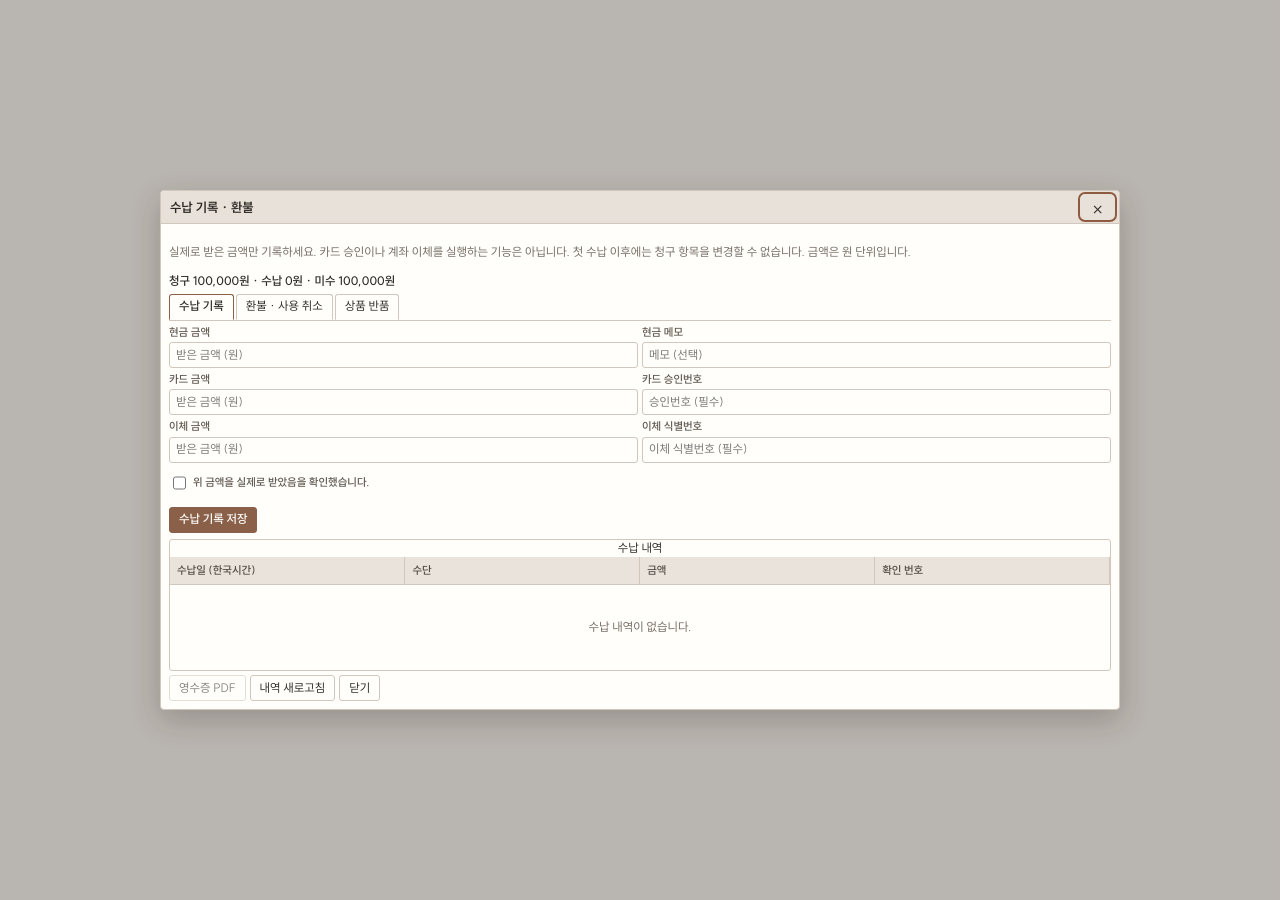
Test case: PaymentDialog 수납·환불·반품 › 복합 수납을 한 번의 요청으로 기록하고 잔액·내역을 갱신한다
Expected: the text with test id "payment-balance" reads "청구 100,000원 · 수납 0원 · 미수 100,000원", [169,273,395,288]
Type "70000" into the field labelled "카드 금액". click: coordinates (404, 402)
box: [169,389,638,415]
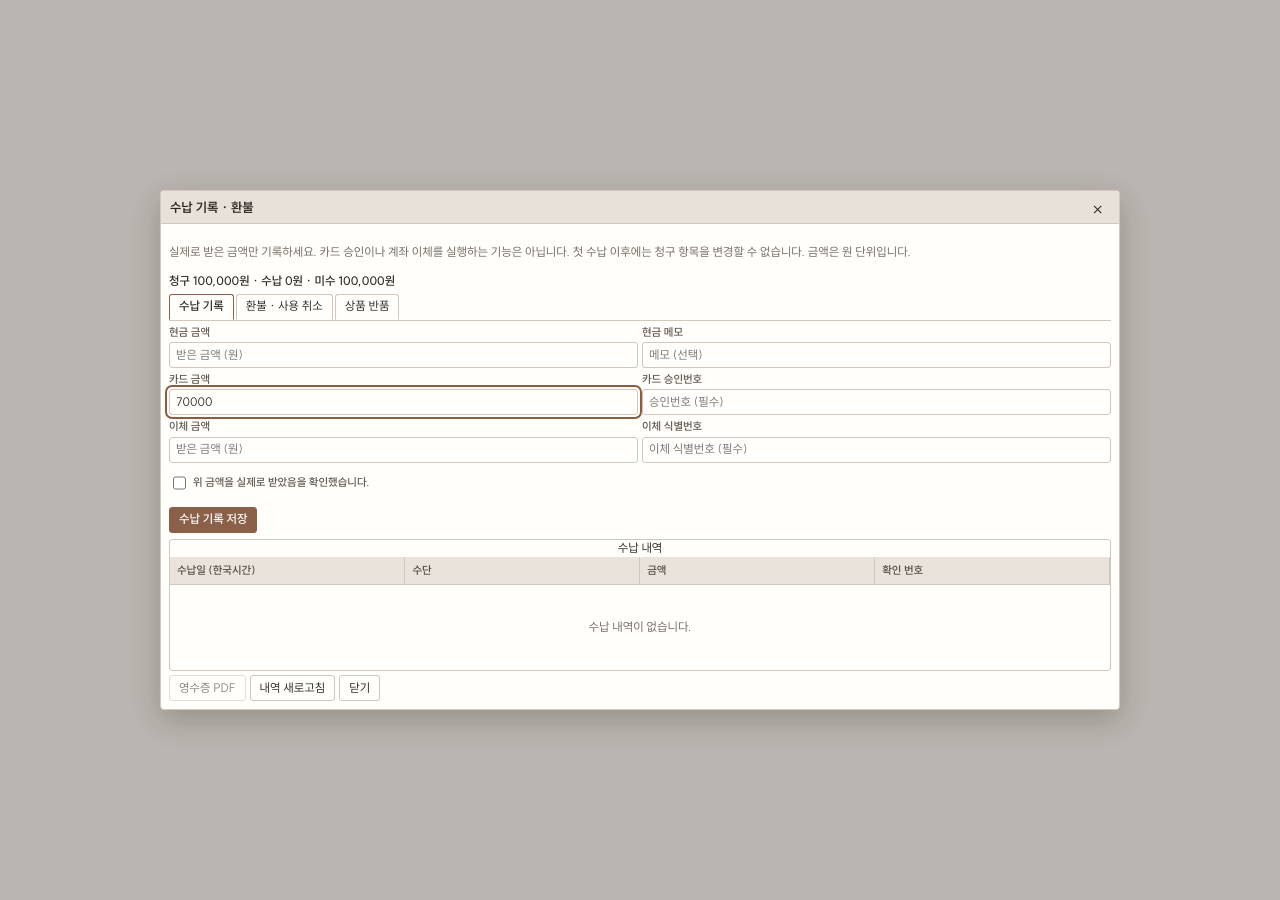
Type "30000" into the field labelled "현금 금액". click: coordinates (404, 355)
box: [169,342,638,368]
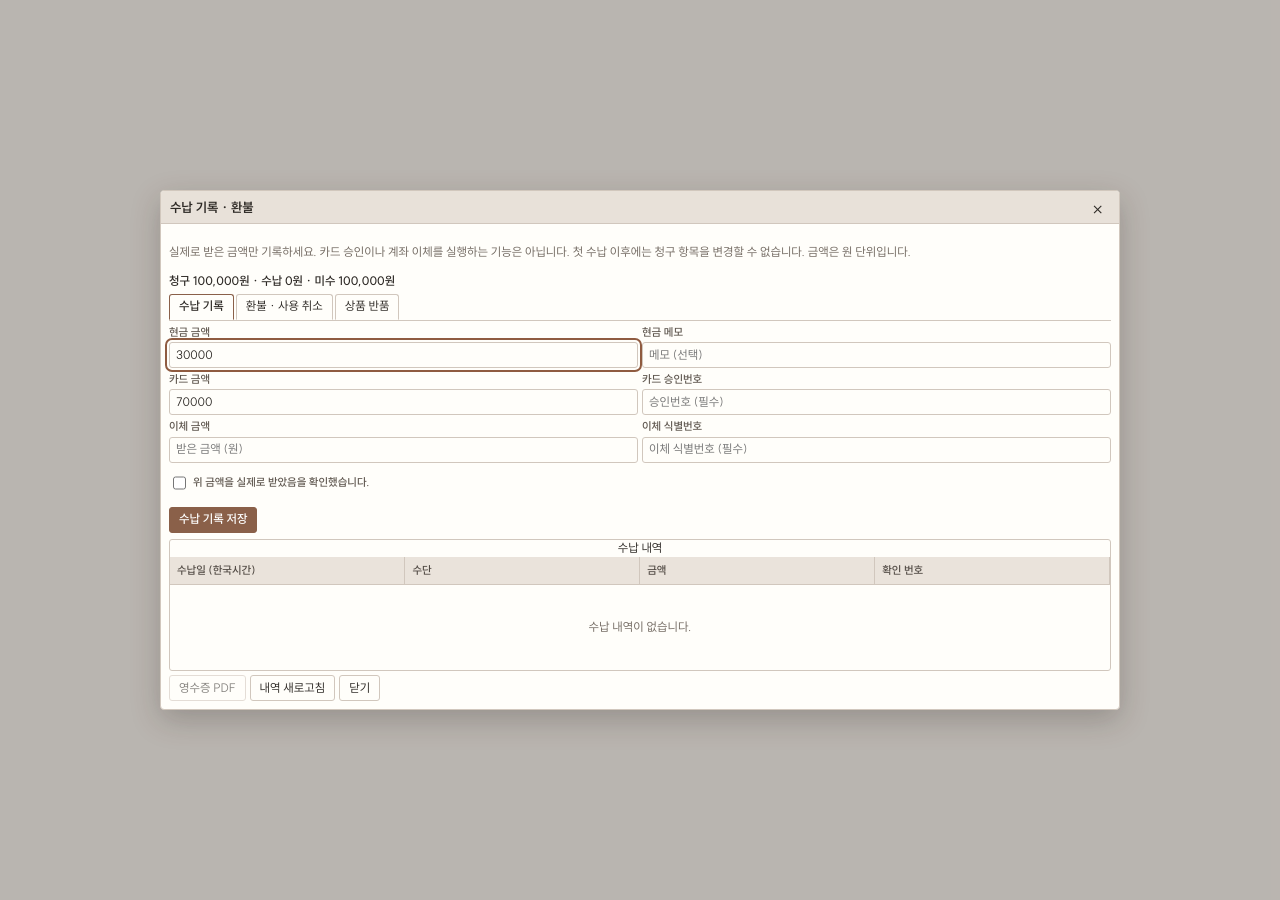
Click the checkbox labelled "위 금액을 실제로 받았음을 확인했습니다.". click: coordinates (180, 483)
box: [173,470,186,496]
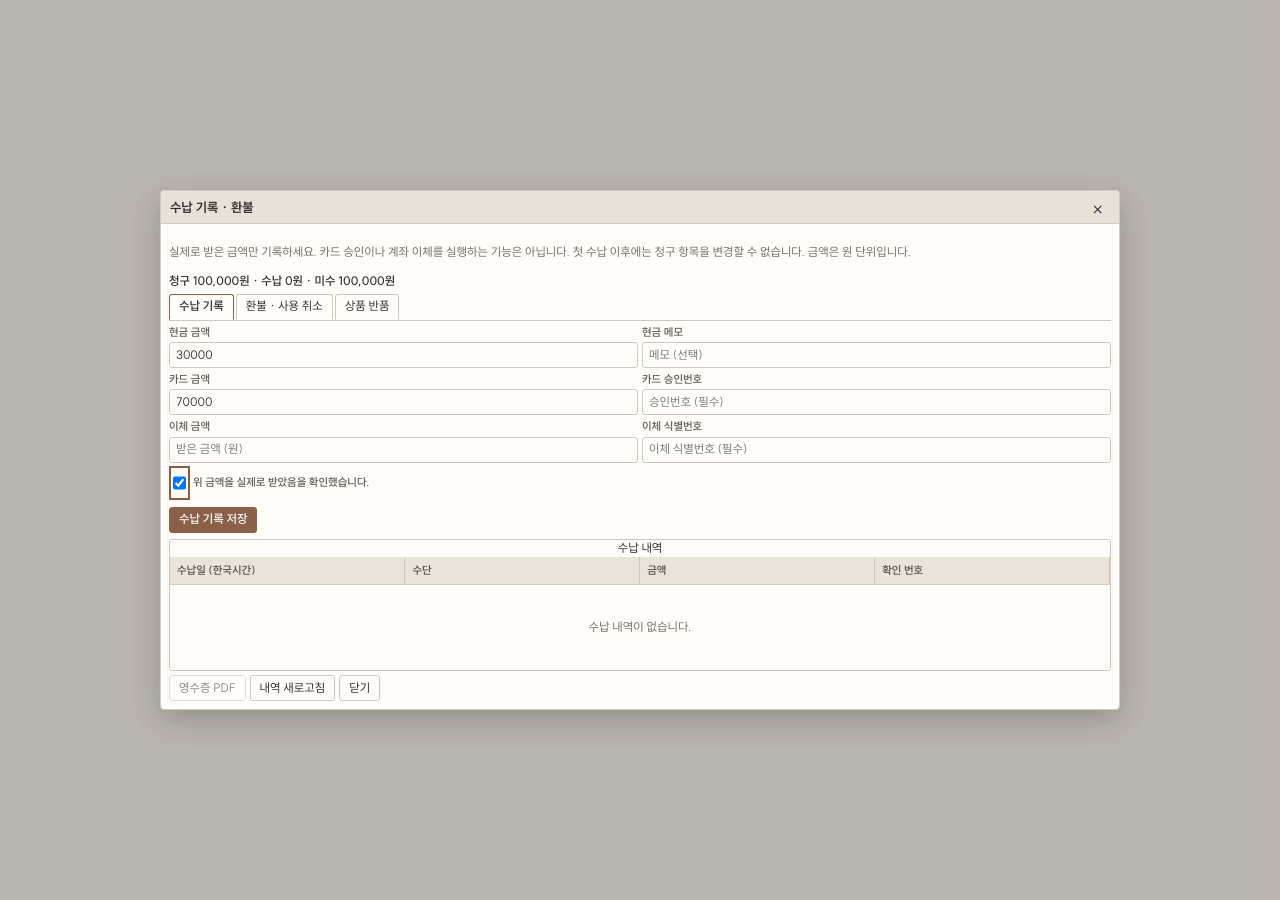
Click the button "수납 기록 저장". click: coordinates (213, 520)
box: [169,507,258,533]
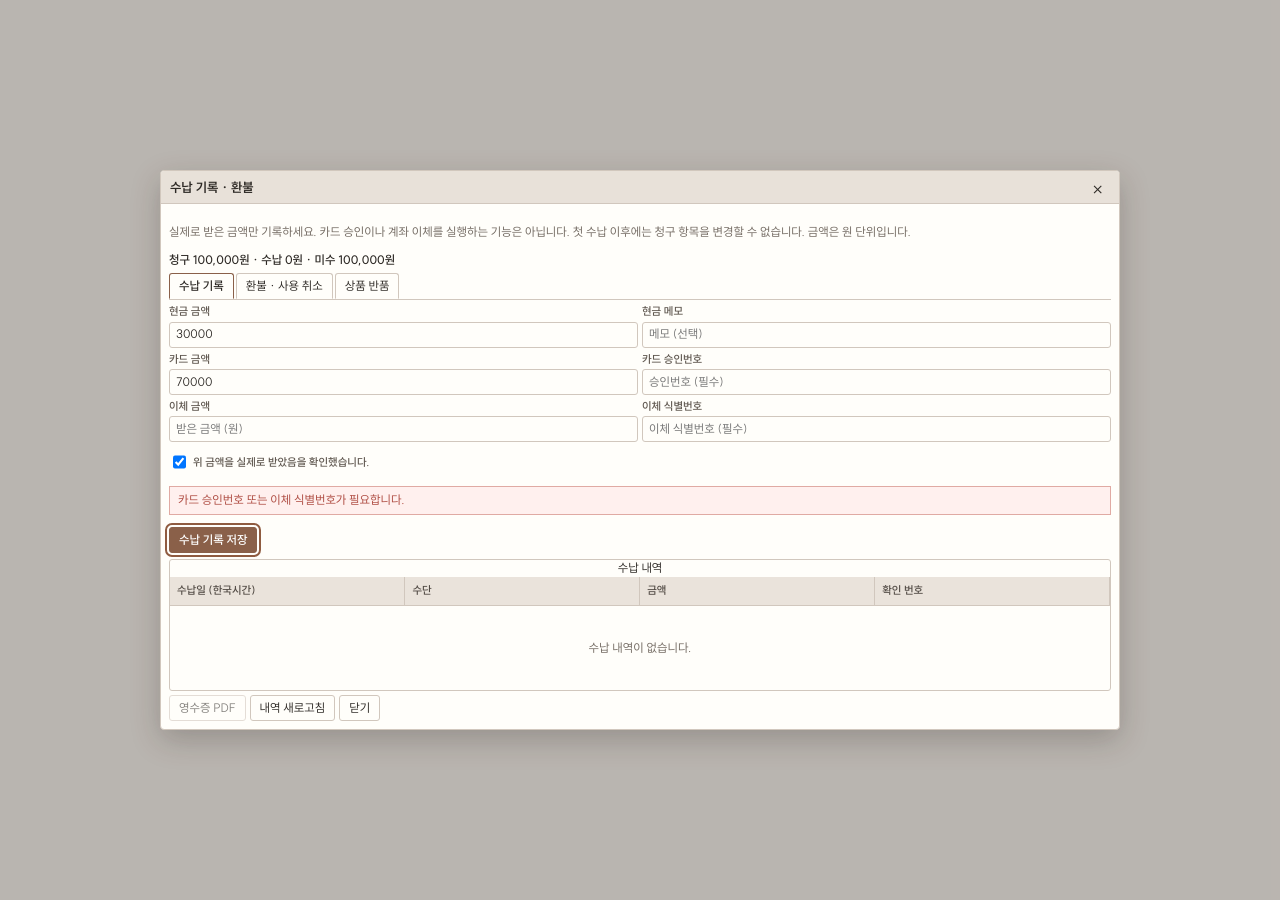
Expected: the message reads "카드 승인번호 또는 이체 식별번호가 필요합니다.", [178,492,405,507]
Type "approval-1" into the field labelled "카드 승인번호". click: coordinates (876, 382)
box: [642,369,1111,395]
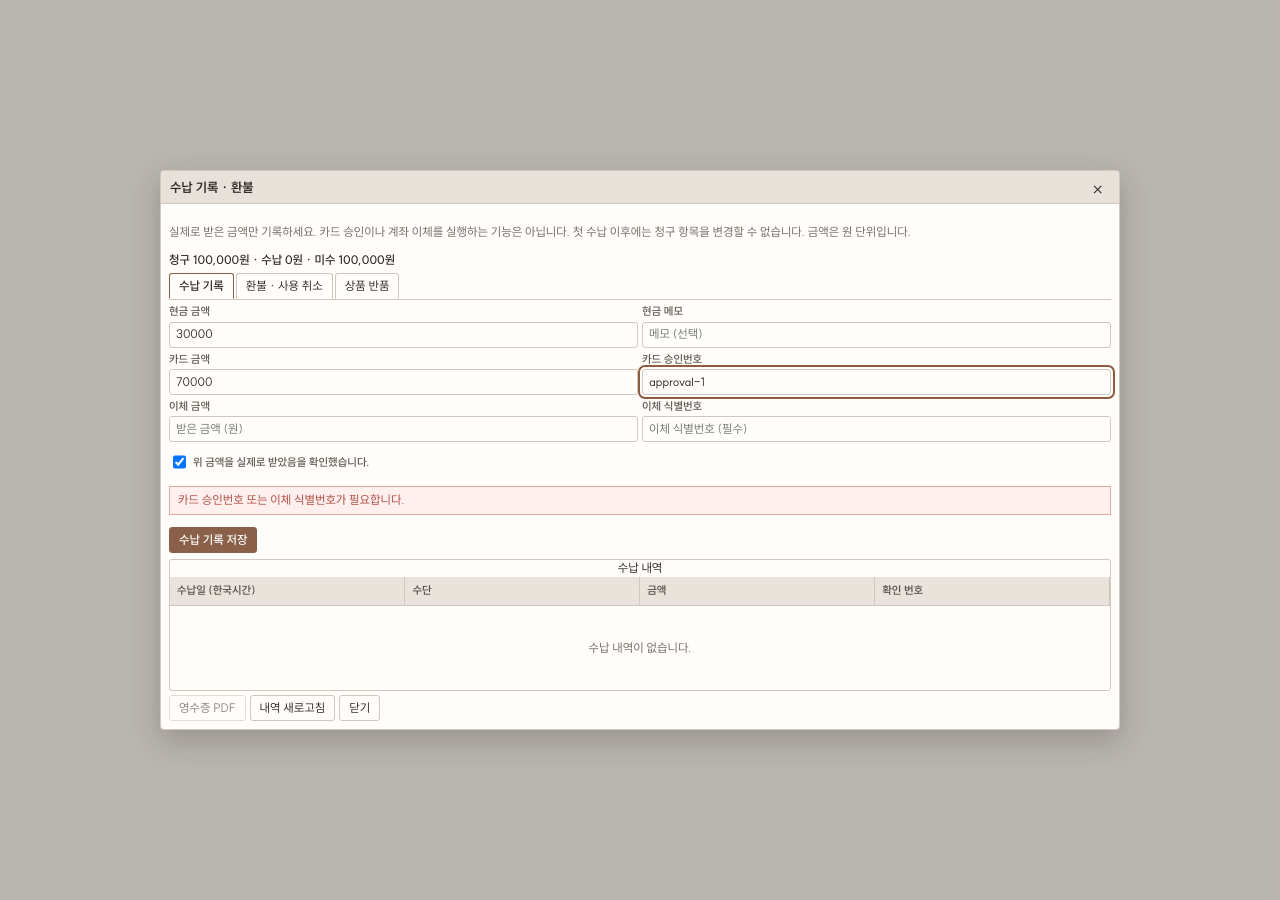
Click the button "수납 기록 저장". click: coordinates (213, 540)
box: [169,527,258,553]
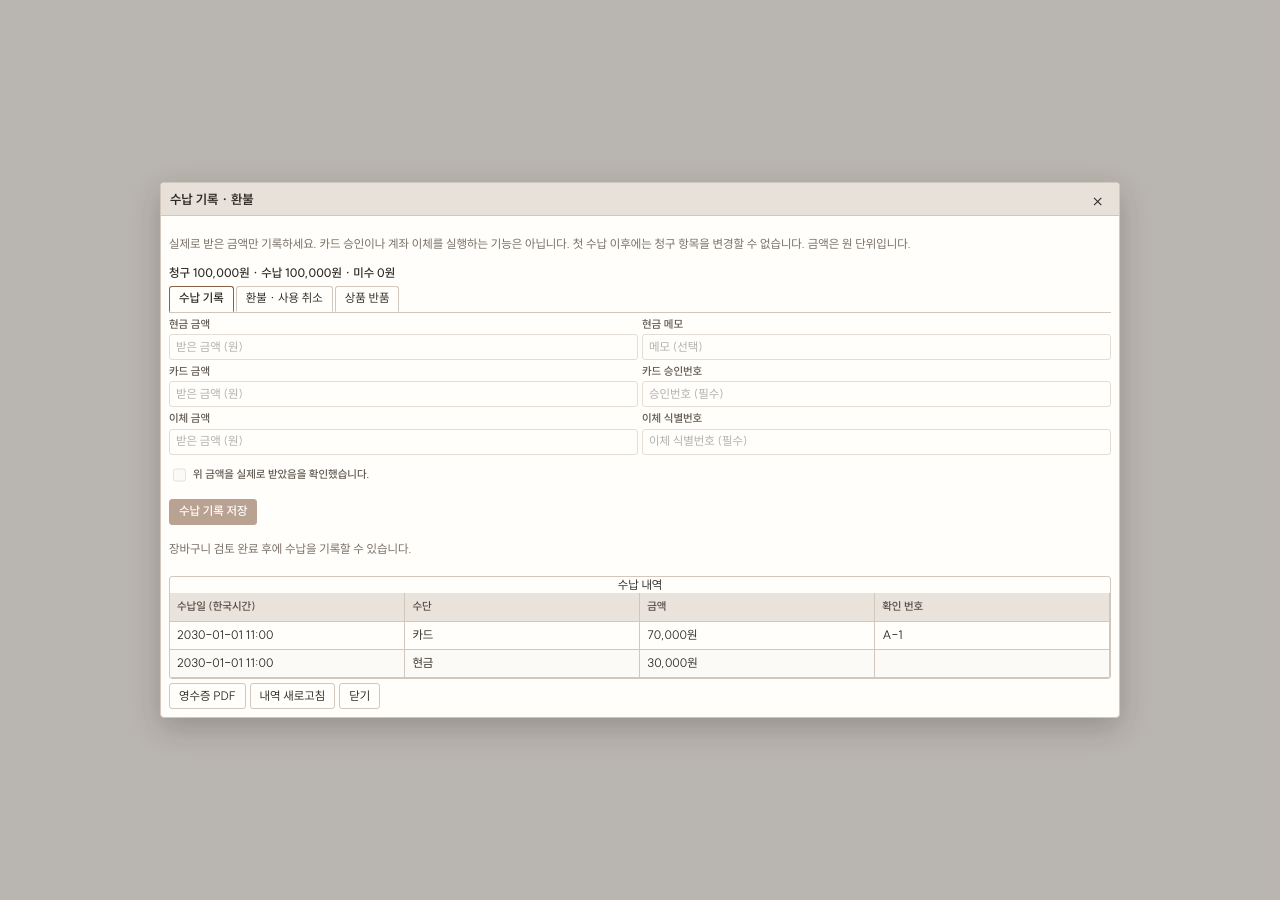
Expected: the text with test id "payment-balance" shows "수납 100,000원 · 미수 0원", [169,265,395,280]
